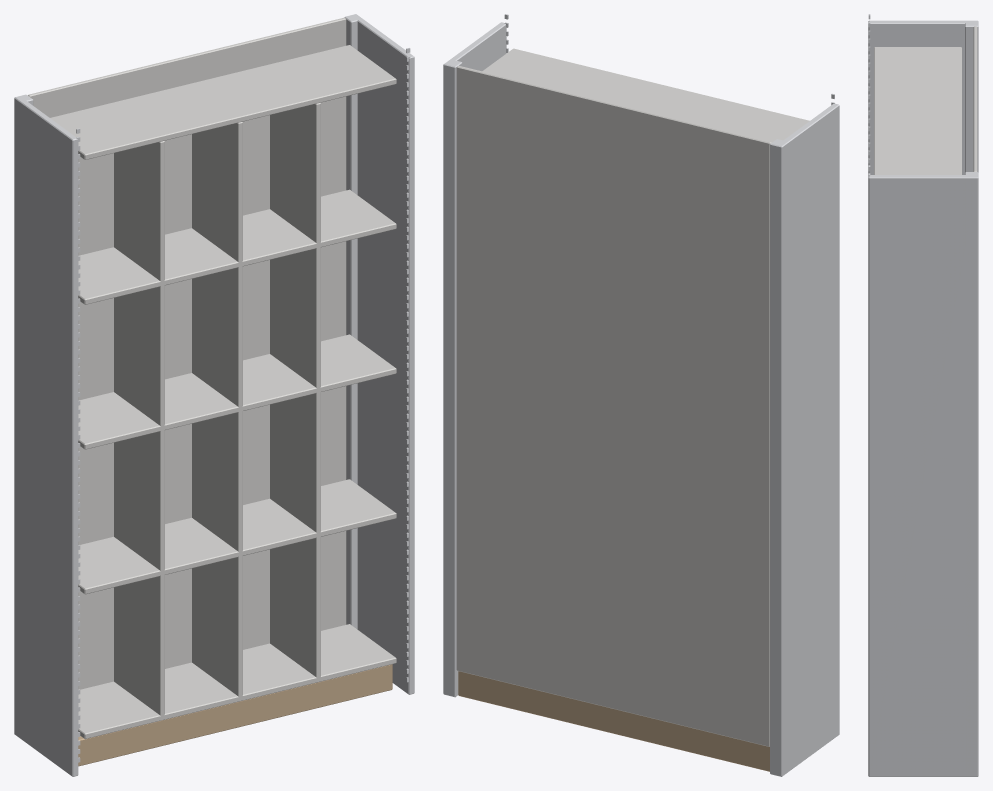
The model's file is SM_Retail_25195_WallBayCubbies.fbx.
3 views of the same model, side by side, from view 1: azimuth 30°, elevation 25°; view 2: azimuth 150°, elevation 25°; view 3: azimuth 270°, elevation 25° (orthographic). The views are drawn at different scales.
Parts seen in each view (by area): view 1: SM_Retail_25195_WallBayCubbies; view 2: SM_Retail_25195_WallBayCubbies; view 3: SM_Retail_25195_WallBayCubbies.
Boxes of the visible parts, <box> form: SM_Retail_25195_WallBayCubbies: <box>14,14,414,776</box>; SM_Retail_25195_WallBayCubbies: <box>443,14,839,776</box>; SM_Retail_25195_WallBayCubbies: <box>868,14,978,776</box>.
Size of the model in its own units: 135 by 39.99 by 243.
